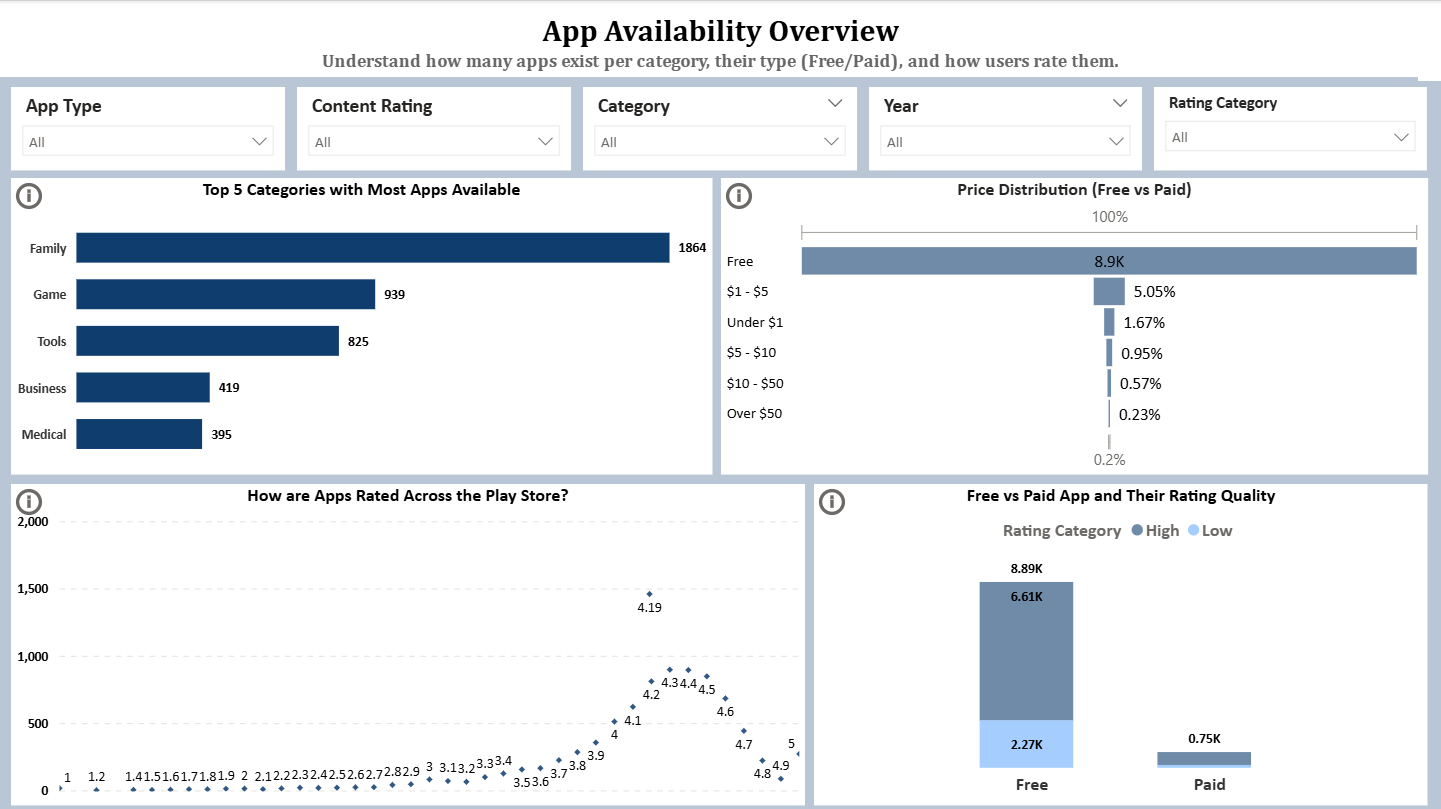

The page's visual inventory and layout, read from the dashboard file:
{"tool":"powerbi","page":{"name":"App Availability","canvas":[1280,720],"ordinal":0},"visuals":[{"type":"barChart","title":"Top 5 Categories with Most Apps Available","fields":{"Category":["googleplaystore_cleaned.Category"],"Y":["CountNonNull(googleplaystore_cleaned.App)"]},"box":[10.6,157.8,621.6,263.3],"z":0},{"type":"scatterChart","title":"How are Apps Rated Across the Play Store?","fields":{"X":["Sum(googleplaystore_cleaned.Rating)1"],"Y":["CountNonNull(googleplaystore_cleaned.Rating)"]},"box":[10.6,429.2,704,284.6],"z":1000},{"type":"columnChart","title":"Free vs Paid App and Their Rating Quality","fields":{"Category":["googleplaystore_cleaned.Type"],"Series":["googleplaystore_cleaned.Rating Category"],"Y":["CountNonNull(googleplaystore_cleaned.App)"]},"box":[722.7,429.2,544.4,284.6],"z":2000},{"type":"shape","title":"App Availability Overview","box":[0,0,1280,50.6],"z":3000},{"type":"shape","box":[0,44.3,1280.4,23.9],"z":4000},{"type":"funnel","title":"Price Distribution (Free  vs Paid)","fields":{"Category":["googleplaystore_cleaned.Price_Bucket"],"Y":["CountNonNull(googleplaystore_cleaned.App)"]},"box":[640.2,157.8,626.9,263.3],"z":5000},{"type":"slicer","title":"App type","fields":{"Values":["googleplaystore_cleaned.Type"]},"box":[10.6,77.1,243,73.6],"z":6000},{"type":"slicer","fields":{"Values":["googleplaystore_cleaned.Category"]},"box":[517.8,77.1,243,73.6],"z":7000},{"type":"slicer","fields":{"Values":["googleplaystore_cleaned.Content_Rating"]},"box":[264.2,77.1,243,73.6],"z":8000},{"type":"slicer","fields":{"Values":["googleplaystore_cleaned.Last_Updated.Variation.Date Hierarchy.Year"]},"box":[771.4,77.1,242.1,73.6],"z":9000},{"type":"slicer","fields":{"Values":["googleplaystore_cleaned.Rating Category"]},"box":[1024.1,77.1,242.1,73.6],"z":10000},{"type":"actionButton","box":[10.6,157.8,32.8,31.9],"z":11000},{"type":"actionButton","box":[640.2,157.8,32.8,31.9],"z":12000},{"type":"actionButton","box":[10.6,429.2,32.8,31.9],"z":13000},{"type":"actionButton","box":[722.7,429.2,32.8,31.9],"z":14000}]}

Visuals, with their boxes in screenshot pixels (x1, y1, x2, y2), scaled from the page's 1280x720 canvas onto the 1441x809 screenshot:
"Top 5 Categories with Most Apps Available" barChart: 12:177:712:473
"How are Apps Rated Across the Play Store?" scatterChart: 12:482:804:802
"Free vs Paid App and Their Rating Quality" columnChart: 814:482:1426:802
"App Availability Overview" shape: 0:0:1440:57
shape: 0:50:1440:77
"Price Distribution (Free  vs Paid)" funnel: 721:177:1426:473
"App type" slicer: 12:87:285:169
slicer - googleplaystore_cleaned.Category: 583:87:856:169
slicer - googleplaystore_cleaned.Content_Rating: 297:87:571:169
slicer - googleplaystore_cleaned.Last_Updated.Variation.Date Hierarchy.Year: 868:87:1141:169
slicer - googleplaystore_cleaned.Rating Category: 1153:87:1425:169
actionButton: 12:177:49:213
actionButton: 721:177:758:213
actionButton: 12:482:49:518
actionButton: 814:482:851:518
